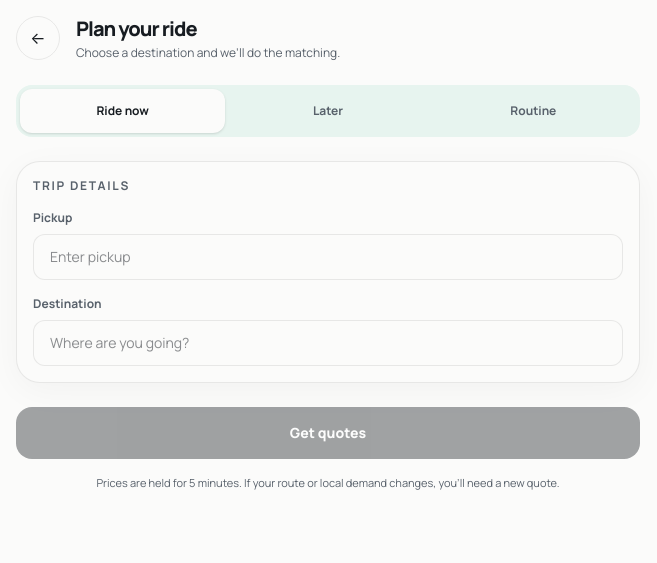
Test case: NewRide (signed in: live quotes) › reports an address that cannot be found
Step 1. Type "zzz" into the dropdown with placeholder "Enter pickup" → (328, 257), box [33,234,623,280]
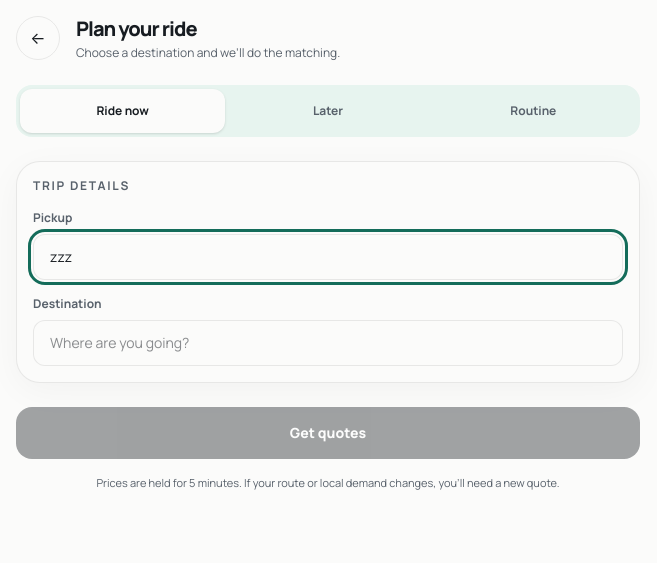
Step 2. Type "qqq" into the dropdown with placeholder "Where are you going?" → (328, 343), box [33,320,623,366]
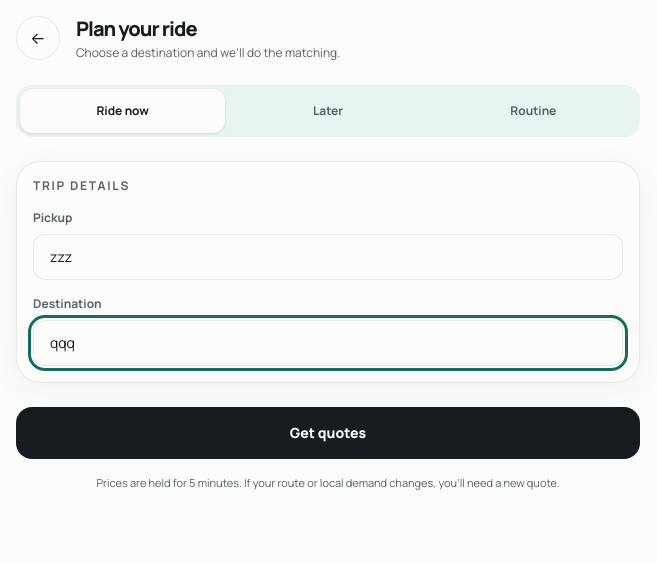
Step 3. Click the button "Get quotes" → (328, 433), box [16,407,640,459]
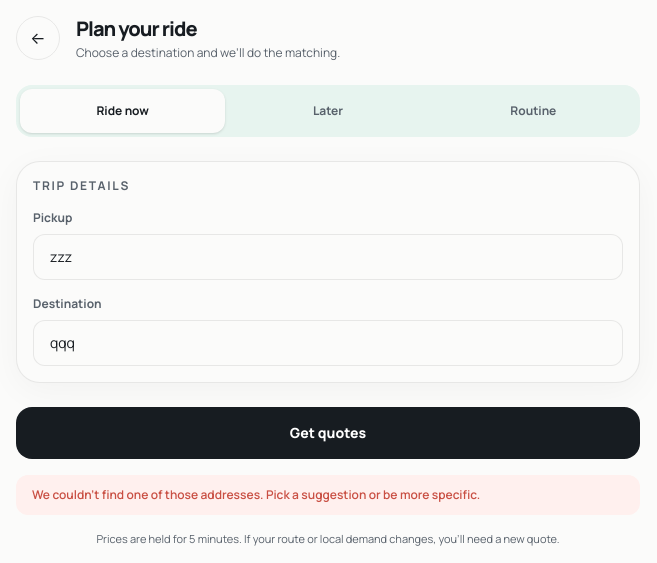
Now the message shows "couldn't find one of those addresses", box [32,486,480,503]
